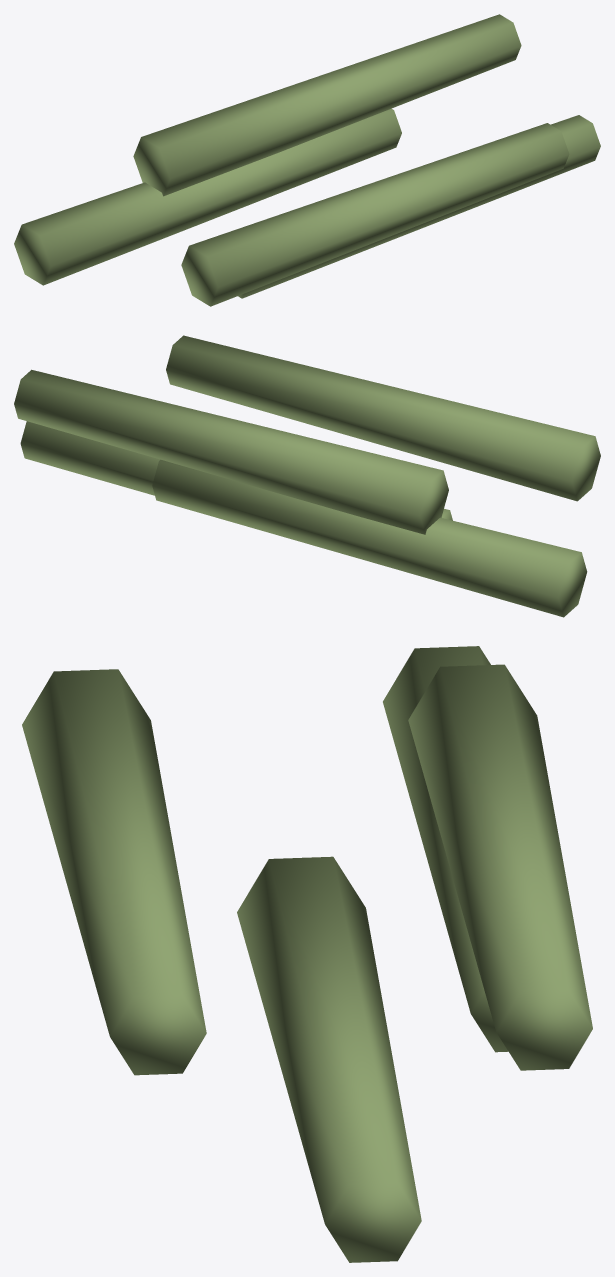
The model's file is payload_raw_fibre_a.obj.
3 renders of one model, top to bottom at view 1: azimuth 30°, elevation 25°; view 2: azimuth 150°, elevation 25°; view 3: azimuth 270°, elevation 25°, orthographic. The views are drawn at different scales.
Parts seen in each view (by area): view 1: bound_strand.002, bound_strand.003, bound_strand.001, bound_strand; view 2: bound_strand.002, bound_strand.003, bound_strand.001, bound_strand; view 3: bound_strand.003, bound_strand, bound_strand.002, bound_strand.001.
Boxes of the visible parts, left/top/right/bottom form: bound_strand.002: left=181, top=123, right=569, bottom=306; bound_strand.003: left=133, top=14, right=521, bottom=196; bound_strand.001: left=14, top=108, right=401, bottom=285; bound_strand: left=238, top=115, right=600, bottom=298; bound_strand.002: left=166, top=335, right=600, bottom=501; bound_strand.003: left=14, top=369, right=448, bottom=534; bound_strand.001: left=152, top=459, right=587, bottom=617; bound_strand: left=20, top=421, right=452, bottom=520; bound_strand.003: left=408, top=664, right=592, bottom=1070; bound_strand: left=237, top=856, right=421, bottom=1262; bound_strand.002: left=22, top=669, right=206, bottom=1075; bound_strand.001: left=383, top=646, right=508, bottom=1052.
Size of the model in its own units: 0.8684 by 0.228 by 0.397.
